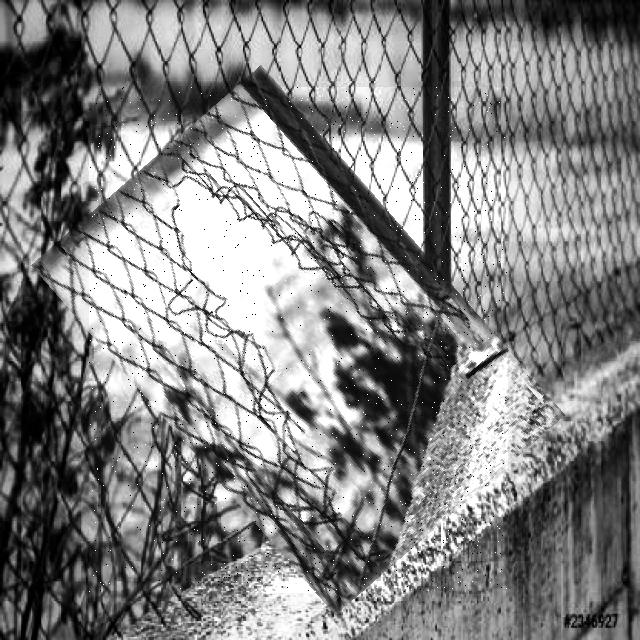anomaly-fence: (89, 87, 508, 593)
